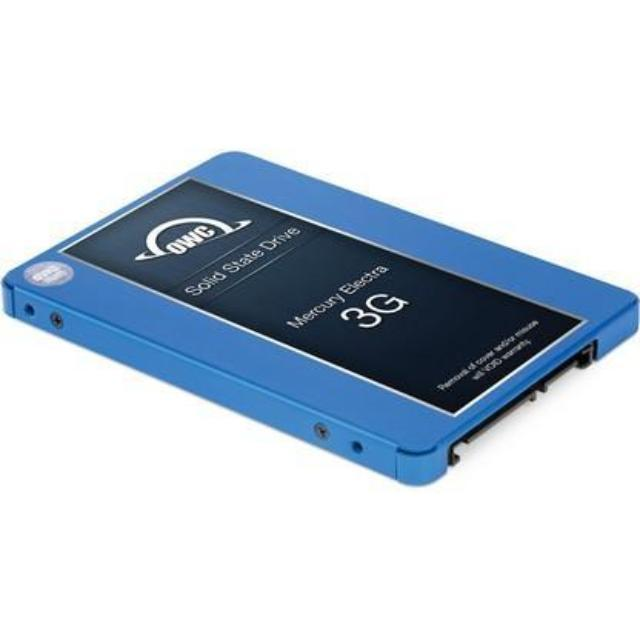DISK: (0, 144, 640, 488)
